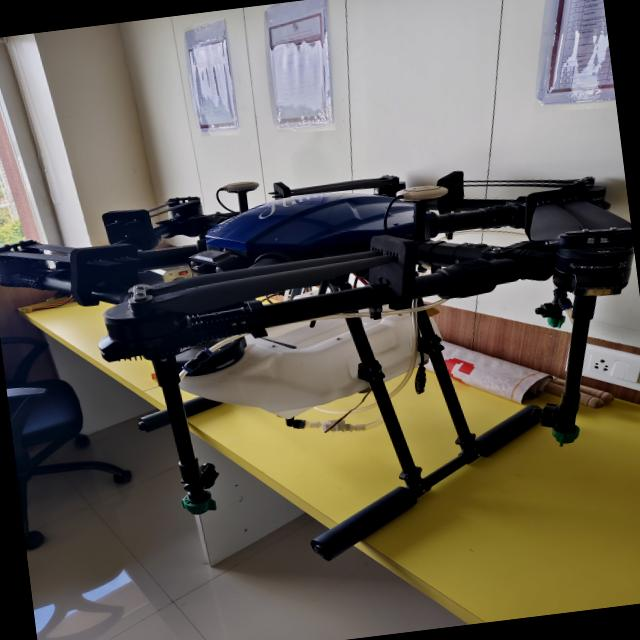agriculturedrone: (0, 125, 640, 602)
